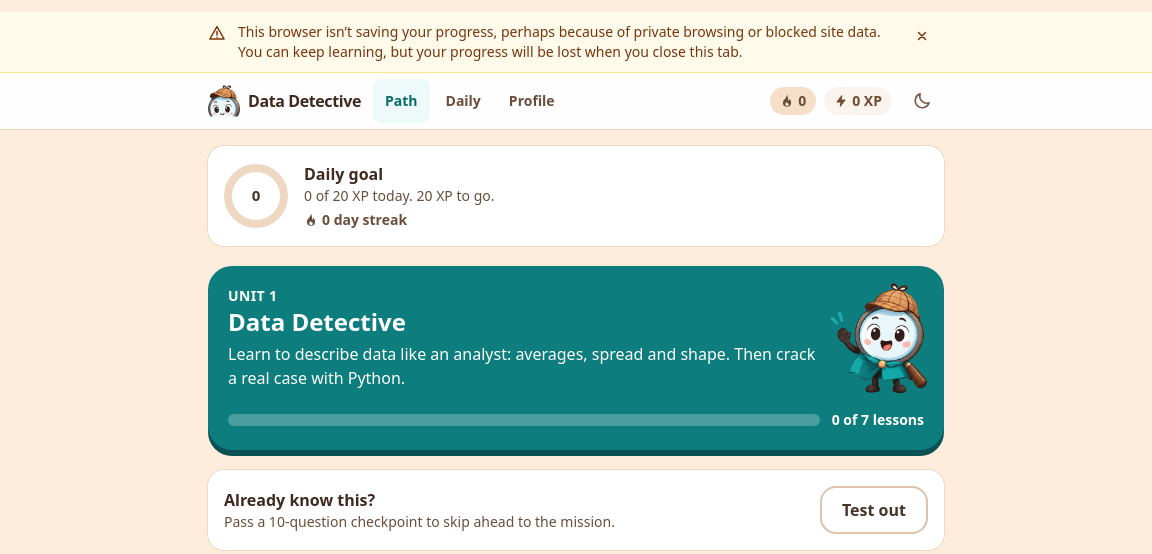
app-wide notices › says when progress cannot be saved, and can be dismissed
Expected: the text "This browser isn’t saving your progress" is shown, [238,22,881,61]
Click the button named "Dismiss" at {"x": 922, "y": 36}, box [900,14,944,58]
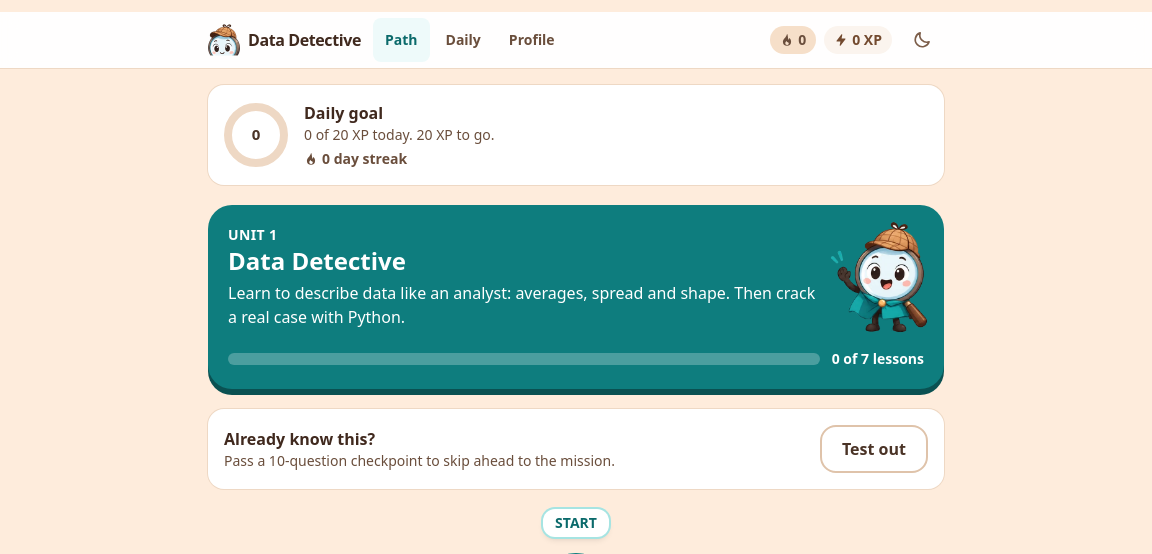
Expected: the text "This browser isn’t saving your progress" is gone
